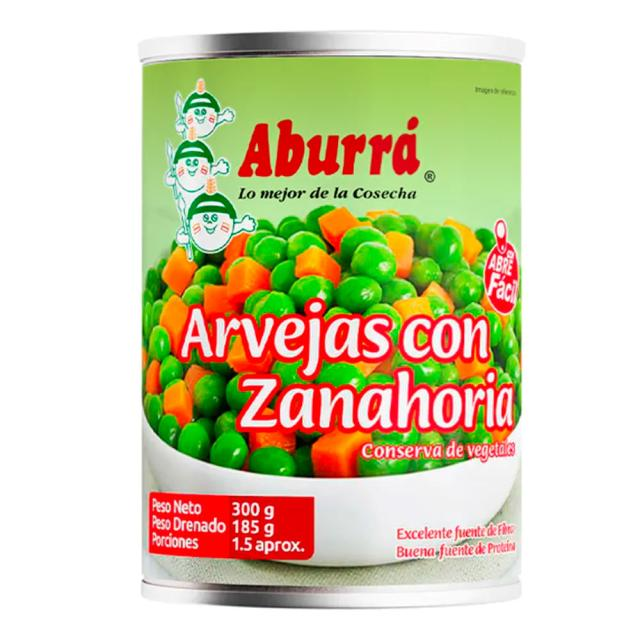arvejas: (273, 215, 418, 302)
